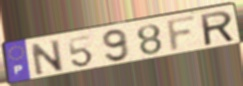5: (66, 33, 95, 69)
8: (135, 22, 165, 57)
9: (101, 28, 130, 63)
F: (165, 13, 199, 54)
N: (28, 38, 66, 77)
R: (198, 9, 237, 47)
